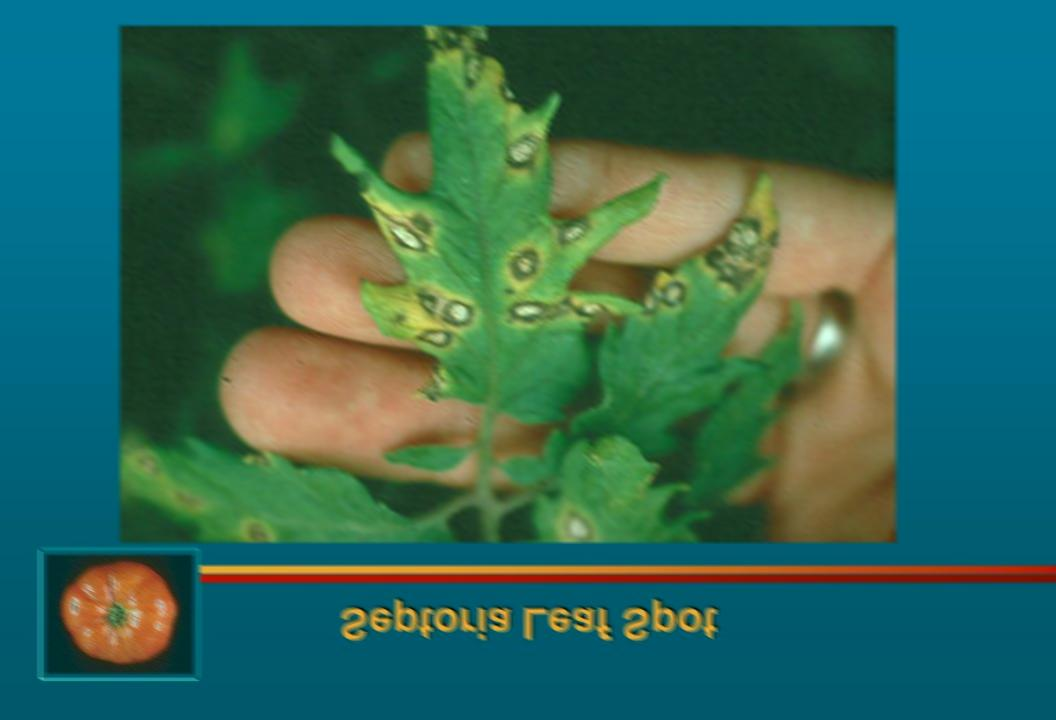Tomato Septoria leaf spot: (324, 32, 640, 414), (590, 171, 792, 465), (127, 421, 486, 540)
